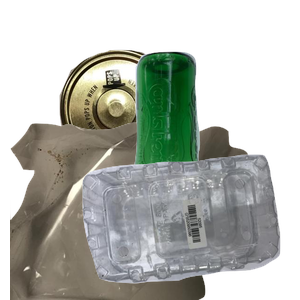glass: (129, 49, 300, 229)
metal: (57, 47, 227, 211)
plastic: (80, 152, 300, 300)
trash: (10, 120, 250, 300)
